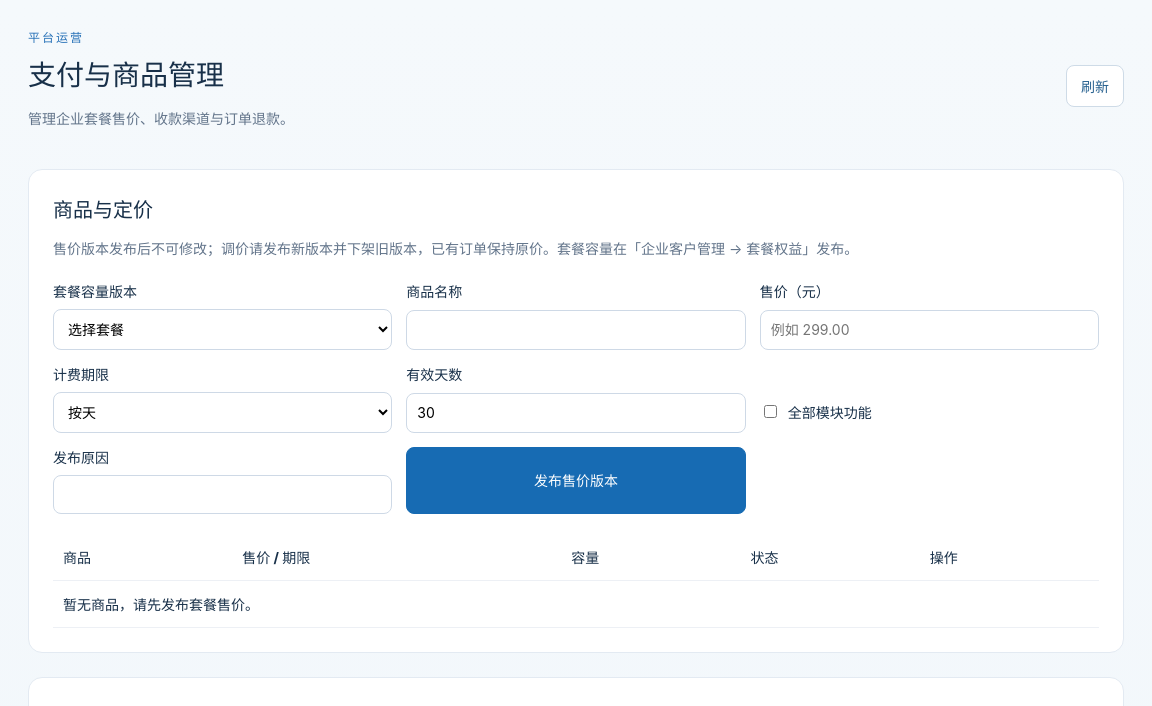
Test: platform payment management › does not treat three-decimal prices as valid currency
In the field labelled "售价（元）": (929, 330) x1=760 y1=310 x2=1099 y2=350, type "1.001"
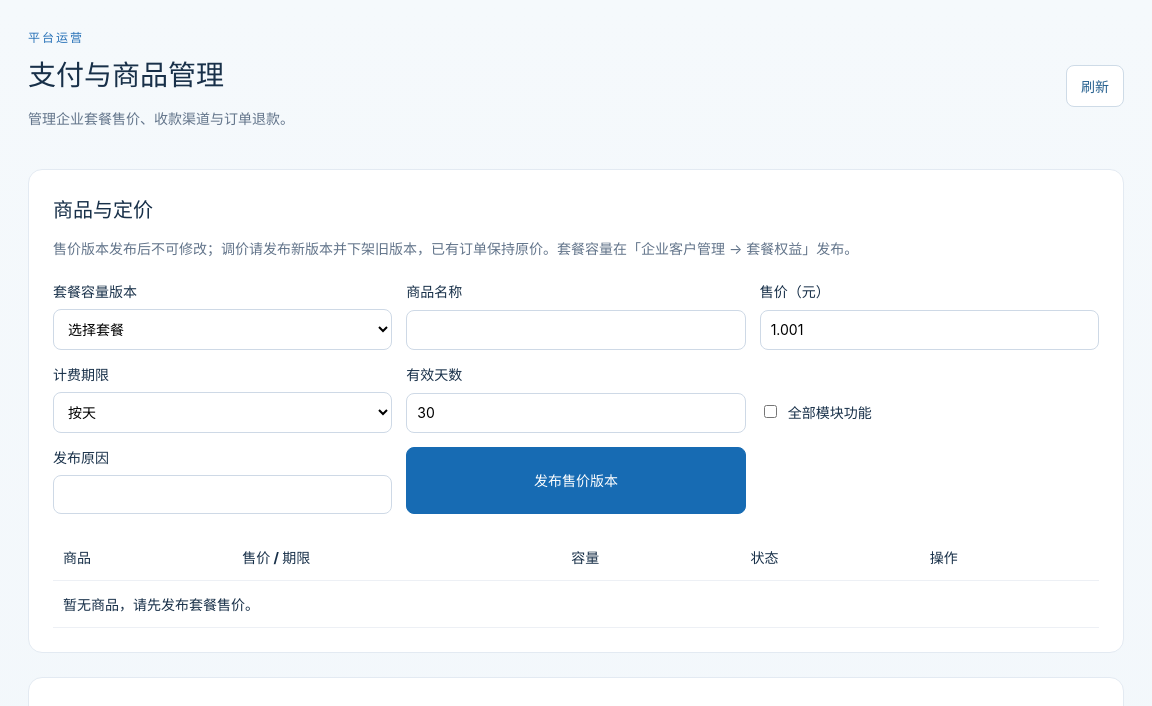
Submit the form, box x1=53 y1=281 x2=1099 y2=514
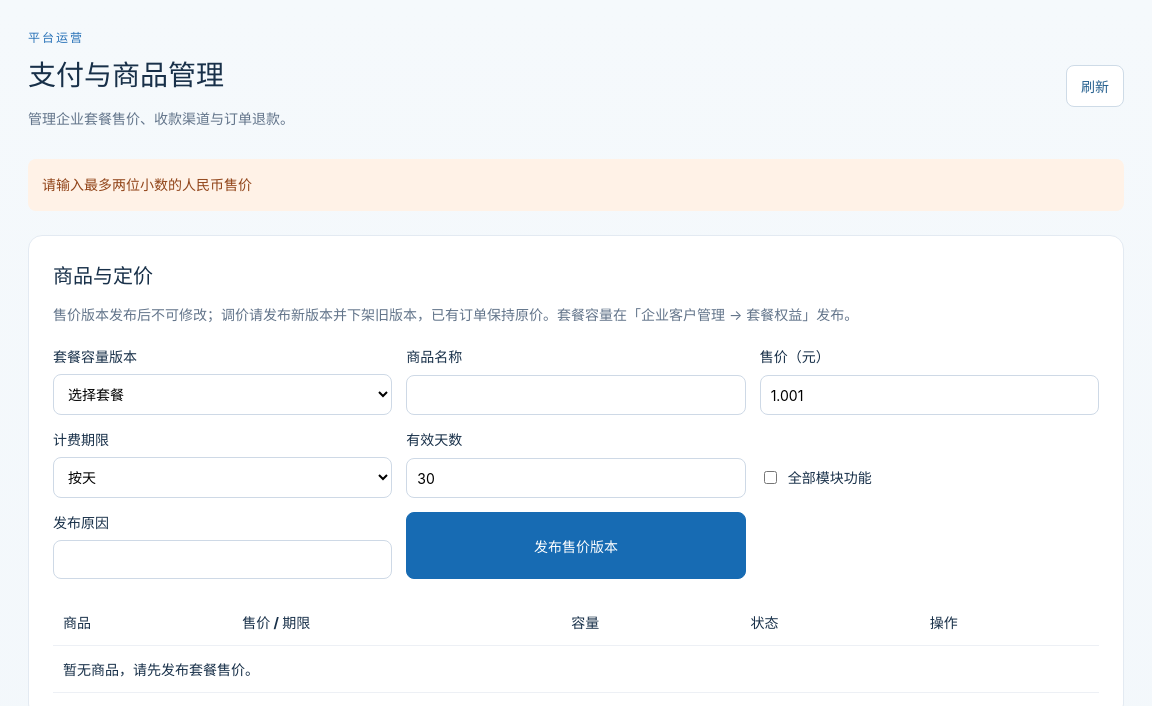
Now the message "请输入最多两位小数的人民币售价" is shown, box x1=28 y1=159 x2=1124 y2=211
